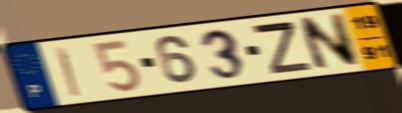3: (199, 26, 255, 83)
5: (89, 37, 142, 94)
6: (154, 34, 201, 86)
I: (53, 45, 84, 99)
N: (294, 11, 362, 73)
Z: (248, 20, 315, 76)
